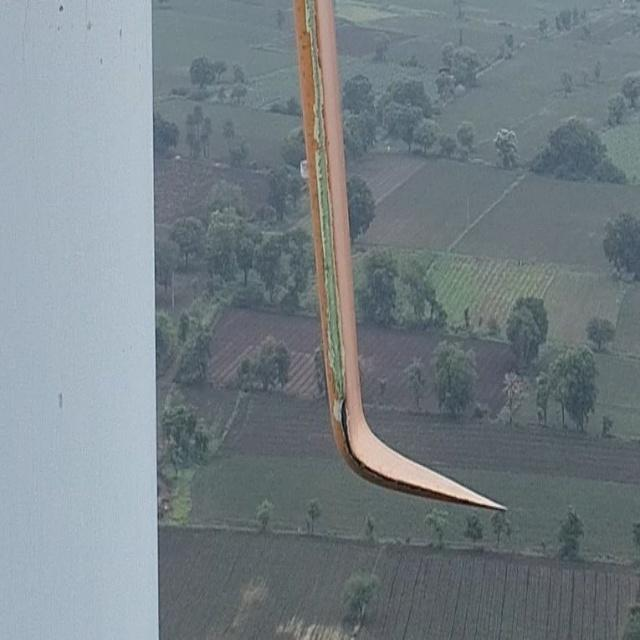PU-tape: (305, 0, 344, 422)
